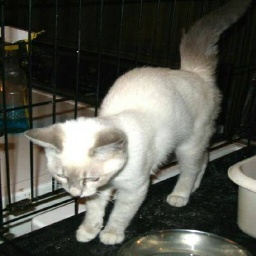cat: (26, 0, 248, 245)
